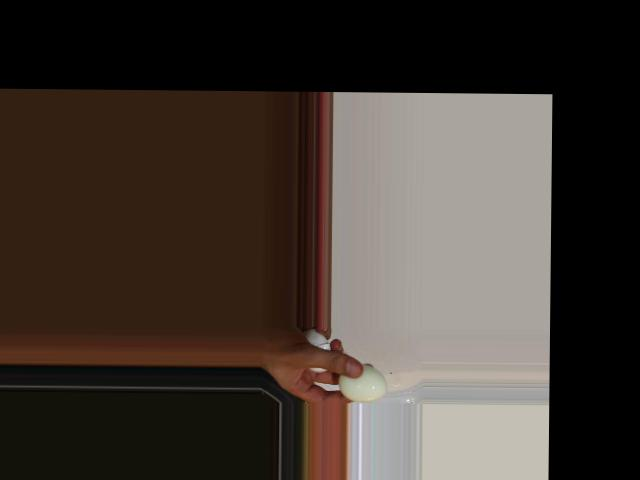egg: (338, 363, 386, 403)
